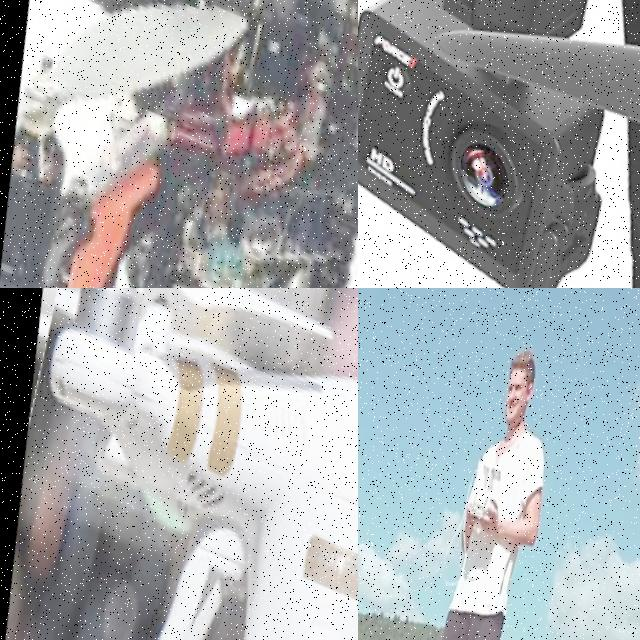0: (0, 288, 358, 640)
drone: (0, 0, 358, 288), (358, 0, 640, 288)
